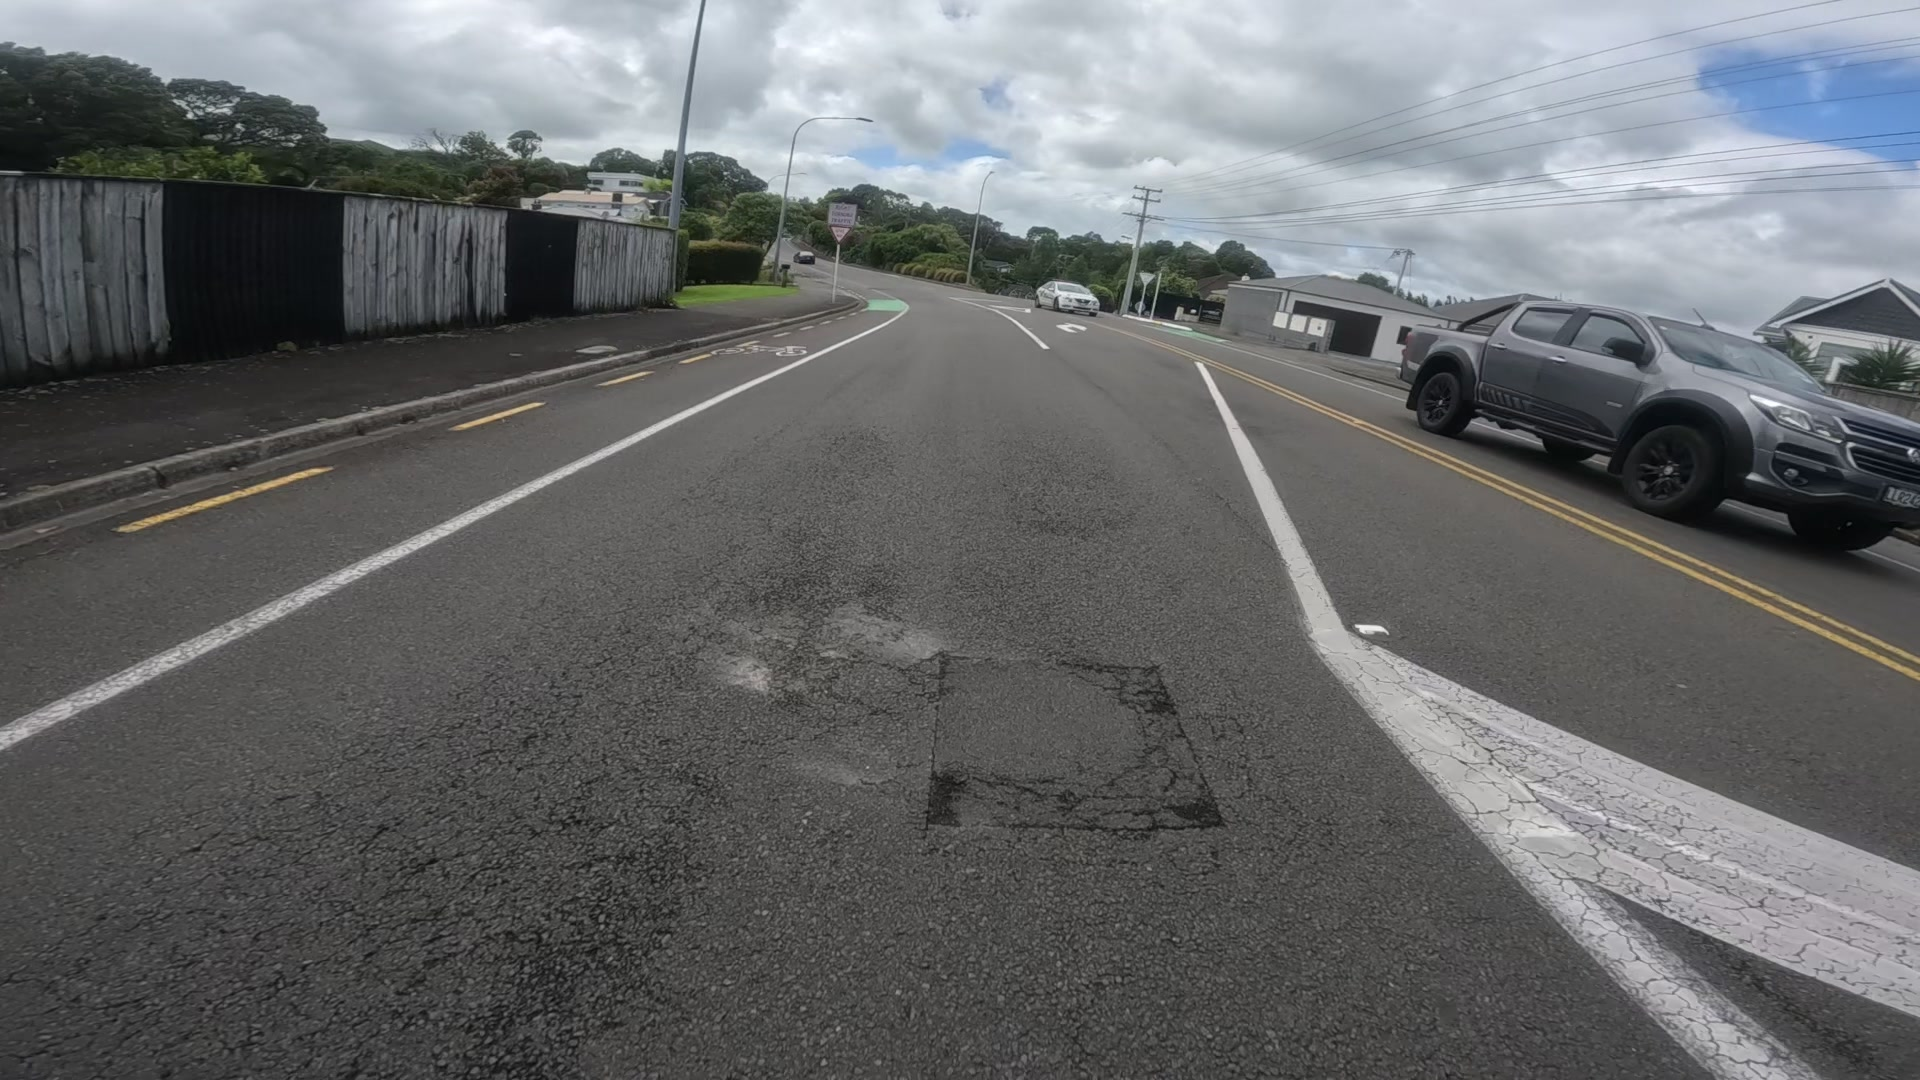Longitudinal_Cracking: (1162, 434, 1267, 537)
